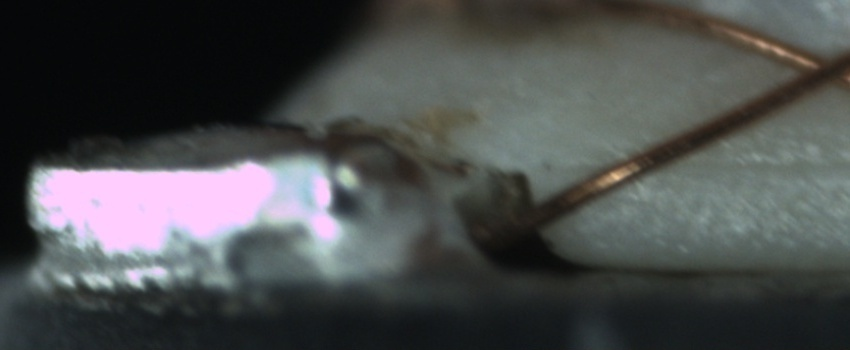CL: (770, 37, 848, 100)
DL: (632, 136, 849, 196)
